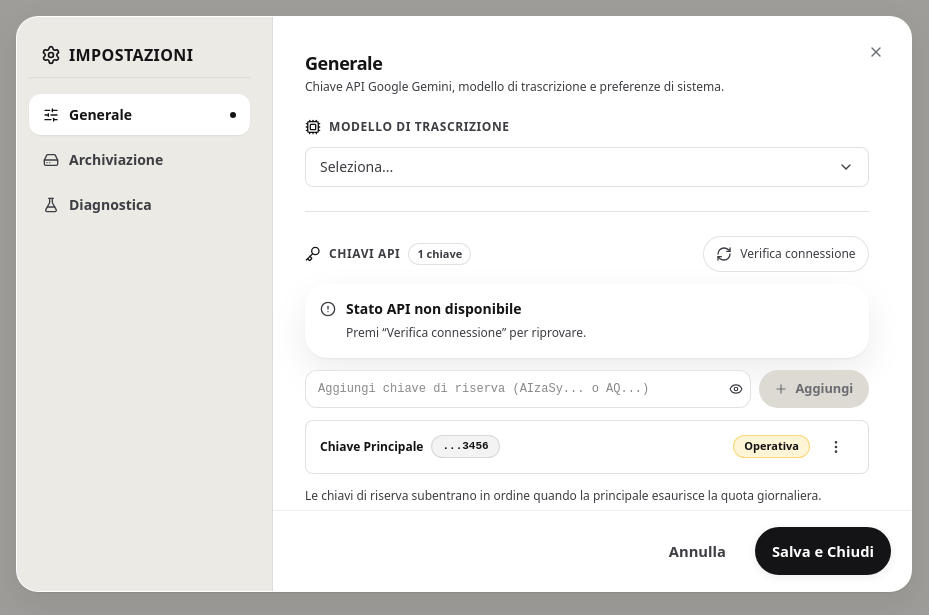
Scenario: SettingsModal — main-section interactions › offers copying the saved primary key without revealing it
The image size is (929, 615).
Click the button named "Opzioni chiave principale".
click(836, 446)  # box [818, 428, 854, 464]
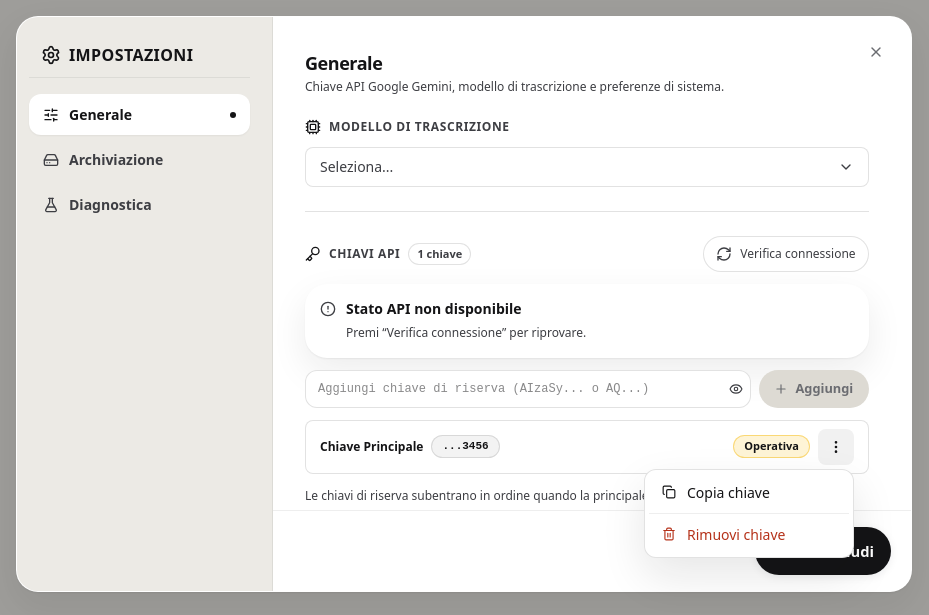
Check: the button "Copia chiave" is shown, box [649, 474, 849, 510]
